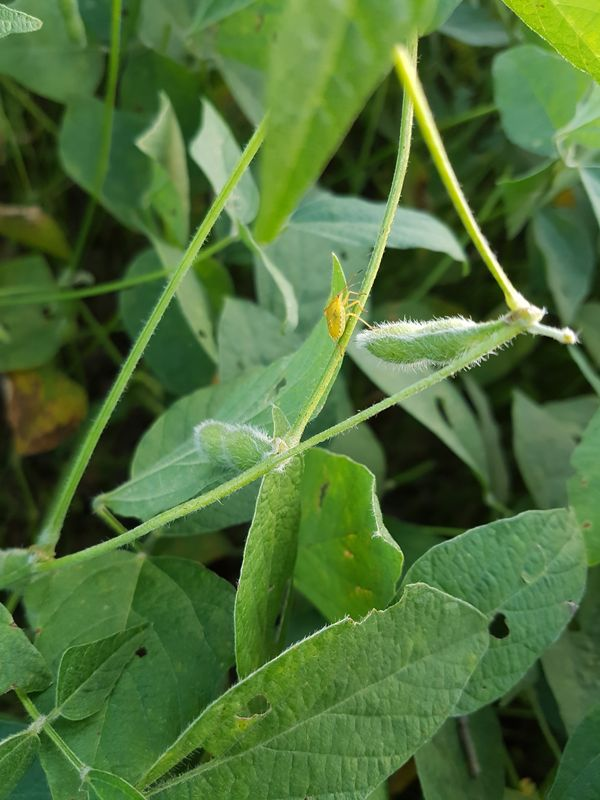Euschistus_heros_ninfa: (317, 273, 383, 352)
Spodoptera_albula: (443, 701, 496, 791)
